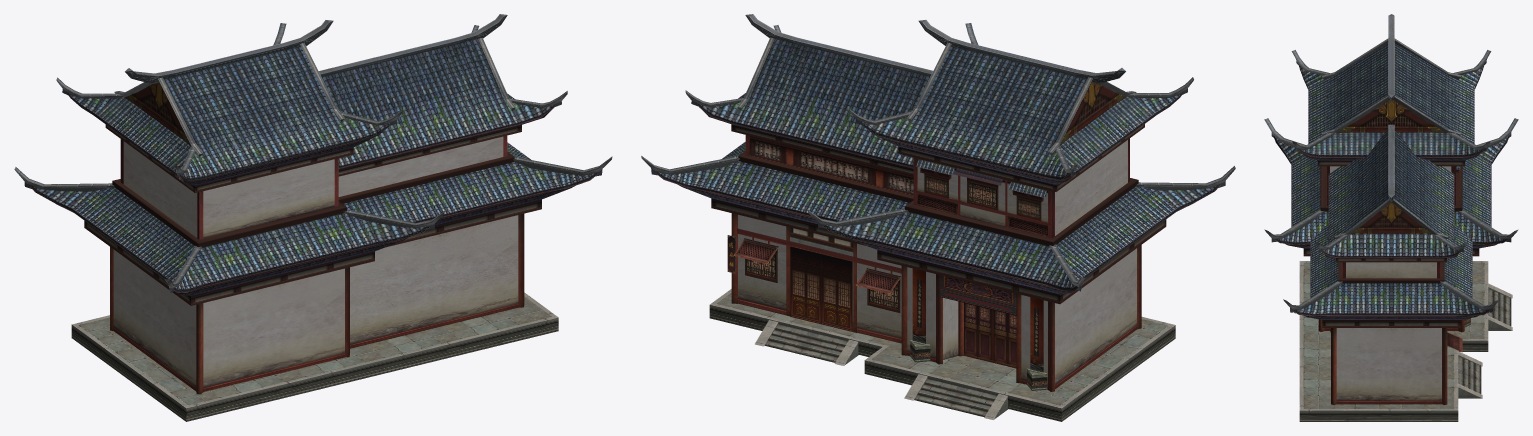
File: Maincity06_Building_mj03_LOD1.FBX
3 views of the same model, side by side, from view 1: azimuth 30°, elevation 25°; view 2: azimuth 150°, elevation 25°; view 3: azimuth 270°, elevation 25° (orthographic). The views are drawn at different scales.
Visible parts, largest first — view 1: Maincity06_Building_mj03_01_LOD1, Maincity06_Building_mj03_02_LOD1; view 2: Maincity06_Building_mj03_01_LOD1, Maincity06_Building_mj03_02_LOD1; view 3: Maincity06_Building_mj03_01_LOD1, Maincity06_Building_mj03_02_LOD1.
Part boxes in pixels (box(x1,y1,x2,y2)): Maincity06_Building_mj03_01_LOD1: box(30, 39, 597, 421); Maincity06_Building_mj03_02_LOD1: box(14, 14, 612, 394); Maincity06_Building_mj03_01_LOD1: box(655, 39, 1220, 421); Maincity06_Building_mj03_02_LOD1: box(641, 14, 1235, 391); Maincity06_Building_mj03_01_LOD1: box(1273, 43, 1512, 421); Maincity06_Building_mj03_02_LOD1: box(1264, 14, 1518, 404).
Size of the model in its own units: 2208 by 1436 by 1286.
